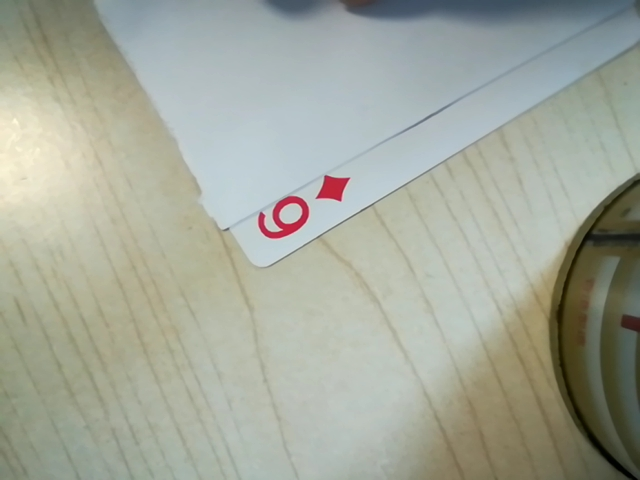fk 6: (247, 174, 348, 247)
